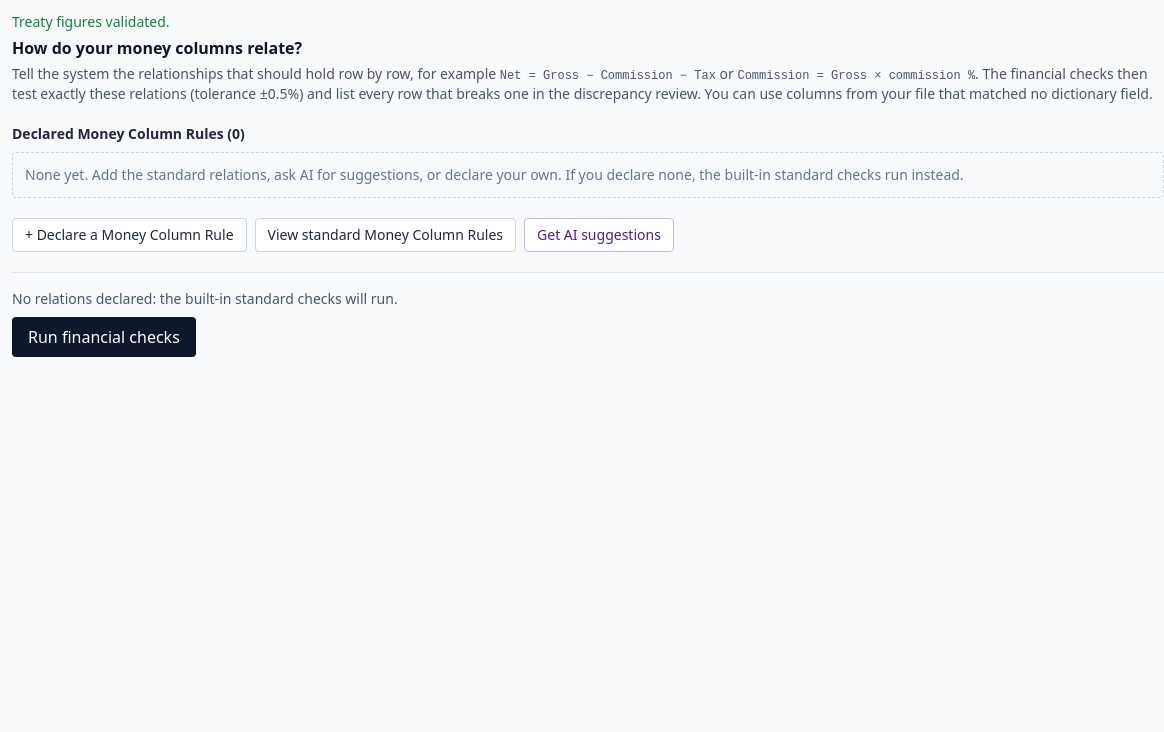
Test: MoneyRelationsEditor › shows AI suggestions with their measured agreement and adds one as AI_SUGGESTED
What coordinates should you click on to do the following:
click the button "Get AI suggestions"
I would click on:
 (599, 235)
Its box is [524, 218, 674, 252].
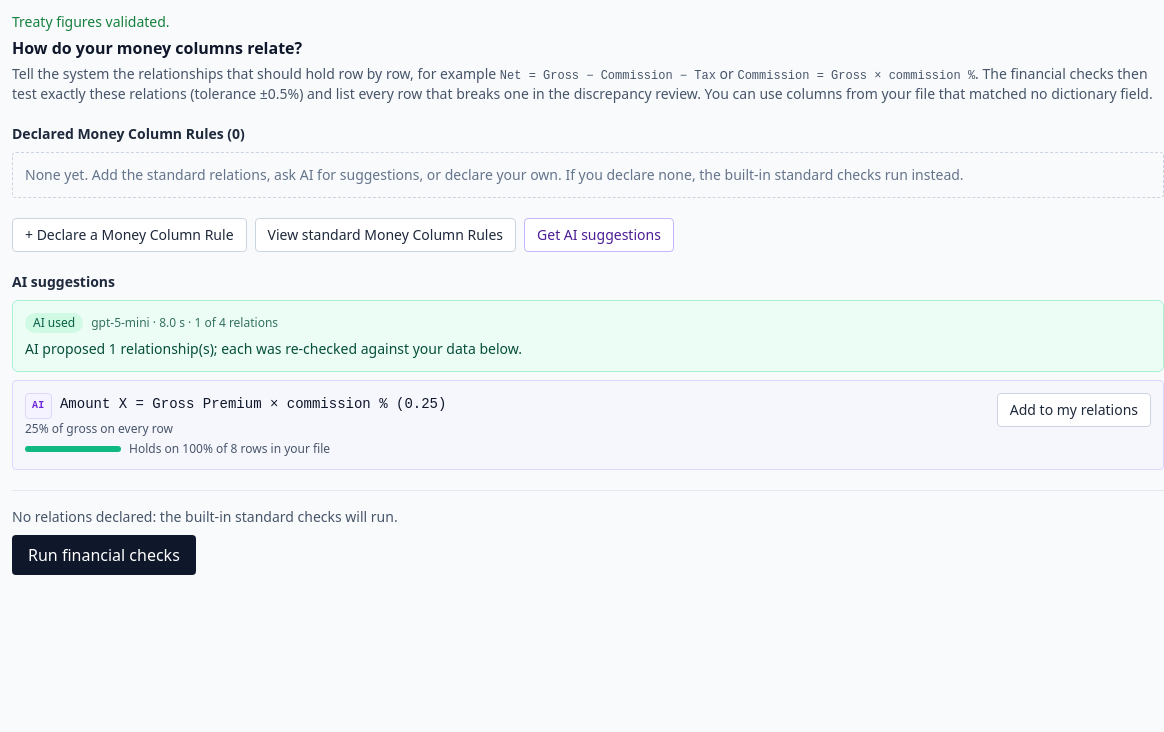
expect the text "Amount X = Gross Premium × commission % (0.25)" is shown: met, box [60, 396, 446, 412]
expect the text "Holds on 100% of 8 rows in your file" is shown: met, box [129, 441, 330, 457]
expect the text "AI used" is shown: met, box [25, 313, 83, 333]
What coordinates should you click on to do the following:
click the button "Add to my relations"
I would click on:
 (1074, 410)
Its box is [997, 393, 1151, 427].
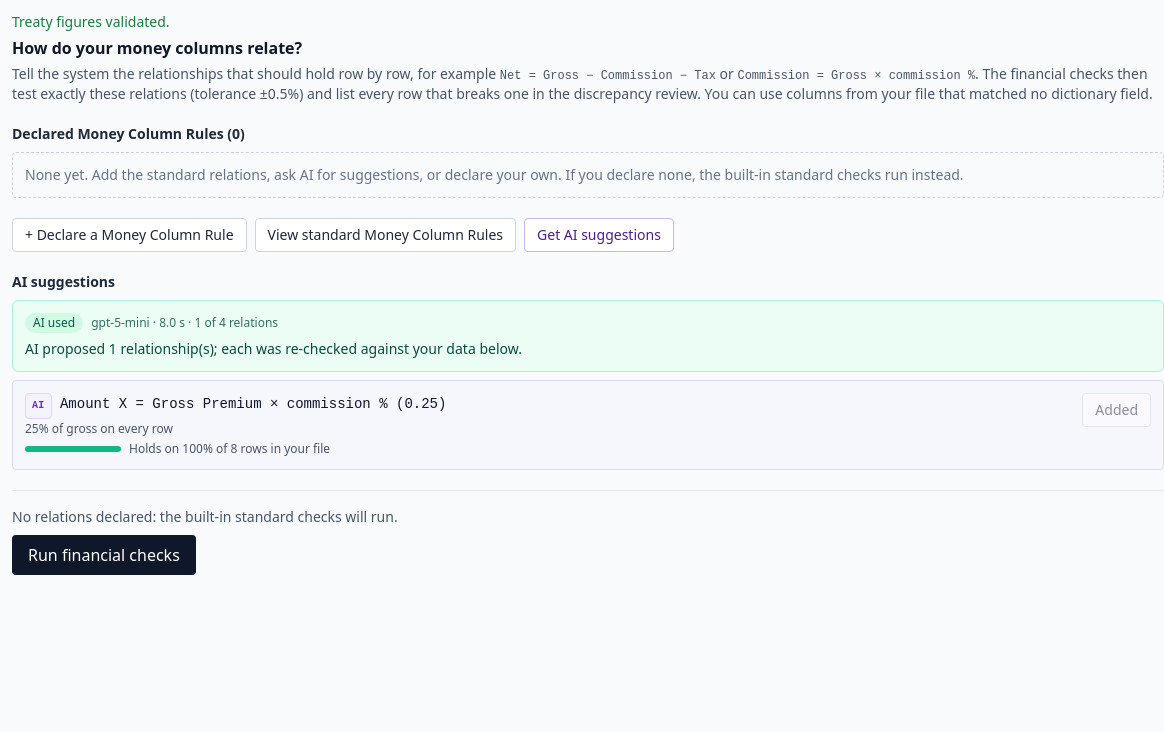
expect the button "Added" is disabled: met, box [1082, 393, 1151, 427]
